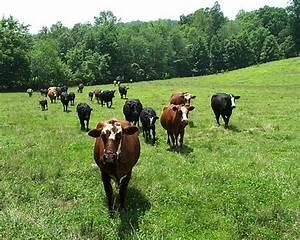cow: (87, 118, 140, 217), (160, 103, 195, 148), (210, 92, 240, 128), (139, 107, 158, 144), (122, 98, 142, 126), (75, 102, 93, 131), (169, 91, 196, 105), (98, 89, 115, 107), (60, 92, 69, 111), (118, 85, 129, 98), (38, 99, 48, 110), (39, 88, 47, 96), (26, 87, 33, 96), (77, 83, 83, 93), (88, 90, 93, 100)
